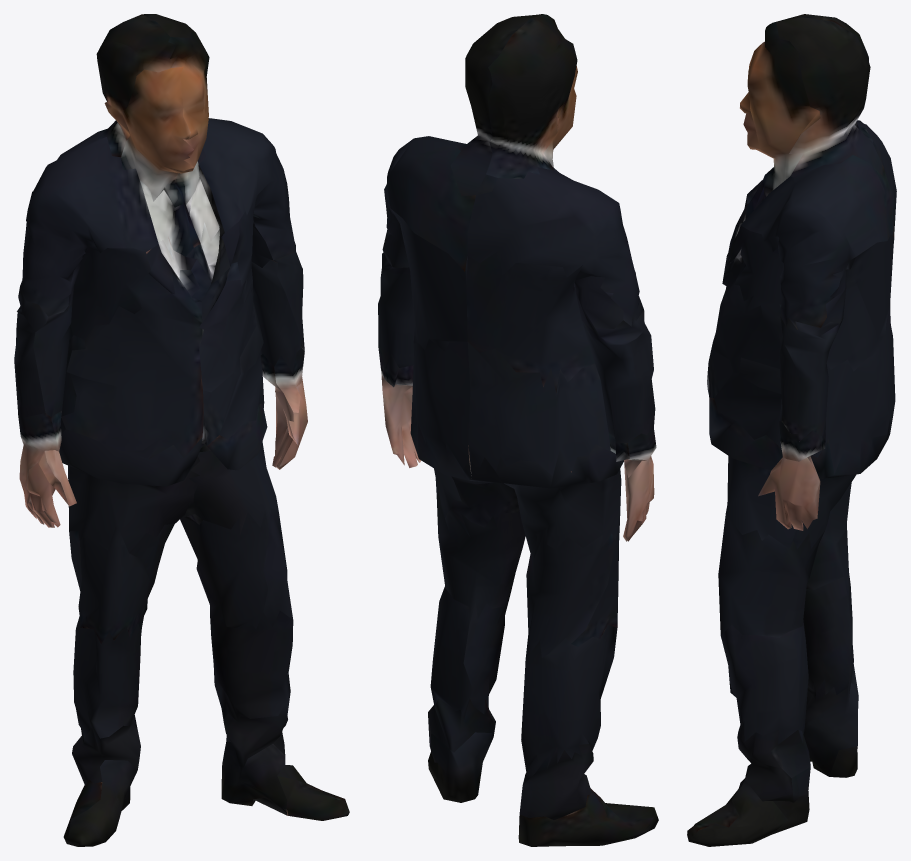
The model's file is masyarakat_1_idle_lod2.glb.
The picture shows the model from 3 angles, left to right: view 1: azimuth 30°, elevation 25°; view 2: azimuth 150°, elevation 25°; view 3: azimuth 270°, elevation 25°; orthographic projection. The views are drawn at different scales.
Visible parts, largest first — view 1: tripo_node_31d276e5; view 2: tripo_node_31d276e5; view 3: tripo_node_31d276e5.
Boxes of the visible parts, x1,y1,x2,y2 form: tripo_node_31d276e5: [14, 14, 349, 846]; tripo_node_31d276e5: [378, 14, 658, 846]; tripo_node_31d276e5: [687, 14, 896, 846].
Size of the model in its own units: 36.17 by 99.18 by 24.55.
Materials: 1 (1 with a texture image).
